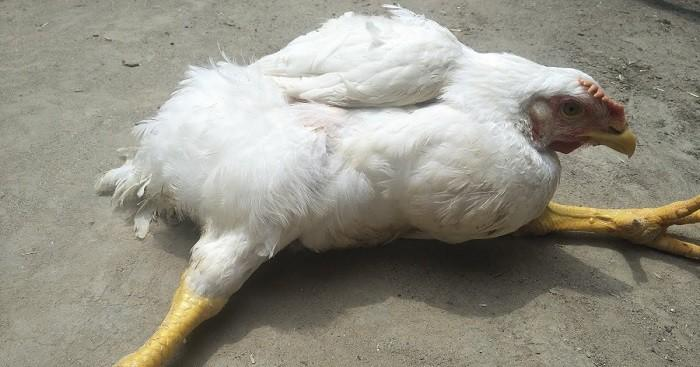AbNormal: (19, 12, 700, 367)
